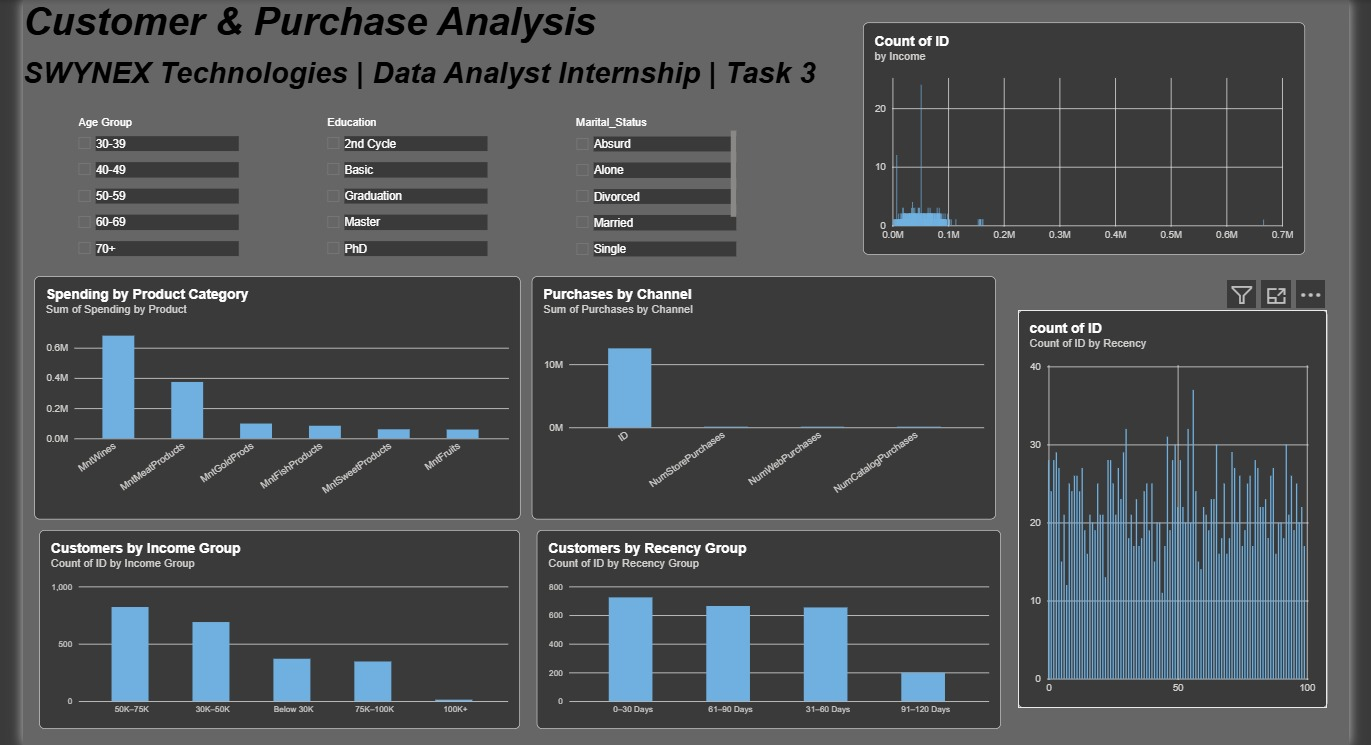

The dashboard page shown, as its layout file describes it:
{"tool":"powerbi","page":{"name":"Customer & Purchase Analysis","canvas":[1920,1080],"ordinal":1},"visuals":[{"type":"textbox","box":[24,0,1224,192],"z":0},{"type":"clusteredColumnChart","title":"Spending by Product Category","fields":{"Category":["Product Spending.Product"],"Y":["Sum(Product Spending.Spending)"]},"box":[16,400,704,352],"z":1000},{"type":"clusteredColumnChart","title":"Purchases by Channel","fields":{"Category":["Purchase Channels.Channel"],"Y":["Sum(Purchase Channels.Purchases)"]},"box":[736,400,672,352],"z":2000},{"type":"clusteredColumnChart","fields":{"Y":["Count(cleaned_marketing_campaign.ID)"],"Category":["cleaned_marketing_campaign.Income"]},"box":[1216,32,640,336],"z":3000},{"type":"clusteredColumnChart","title":"Customers by Income Group","fields":{"Category":["cleaned_marketing_campaign.Income Group"],"Y":["Count(cleaned_marketing_campaign.ID)"]},"box":[24,768,696,288],"z":4000},{"type":"clusteredColumnChart","title":"count of ID","fields":{"Category":["cleaned_marketing_campaign.Recency"],"Y":["Count(cleaned_marketing_campaign.ID)"]},"box":[1440,480,448,544],"z":5000},{"type":"clusteredColumnChart","title":"Customers by Recency Group","fields":{"Category":["cleaned_marketing_campaign.Recency Group"],"Y":["Count(cleaned_marketing_campaign.ID)"]},"box":[744,768,672,288],"z":6000},{"type":"slicer","title":"education","fields":{"Values":["cleaned_marketing_campaign.Education"]},"box":[432,168,240,240],"z":7000},{"type":"slicer","fields":{"Values":["cleaned_marketing_campaign.Age Group"]},"box":[72,168,240,240],"z":8000},{"type":"slicer","fields":{"Values":["cleaned_marketing_campaign.Marital_Status"]},"box":[792,168,240,216],"z":9000}]}

Visuals, with their boxes on the page's 1920x1080 design canvas (x1, y1, x2, y2). These are canvas units, not pixel positions in the 1371x745 screenshot, which may show the page scaled, cropped or inside an application window:
textbox: (24,0,1248,192)
"Spending by Product Category" clusteredColumnChart: (16,400,720,752)
"Purchases by Channel" clusteredColumnChart: (736,400,1408,752)
clusteredColumnChart - Count(cleaned_marketing_campaign.ID) x cleaned_marketing_campaign.Income: (1216,32,1856,368)
"Customers by Income Group" clusteredColumnChart: (24,768,720,1056)
"count of ID" clusteredColumnChart: (1440,480,1888,1024)
"Customers by Recency Group" clusteredColumnChart: (744,768,1416,1056)
"education" slicer: (432,168,672,408)
slicer - cleaned_marketing_campaign.Age Group: (72,168,312,408)
slicer - cleaned_marketing_campaign.Marital_Status: (792,168,1032,384)
